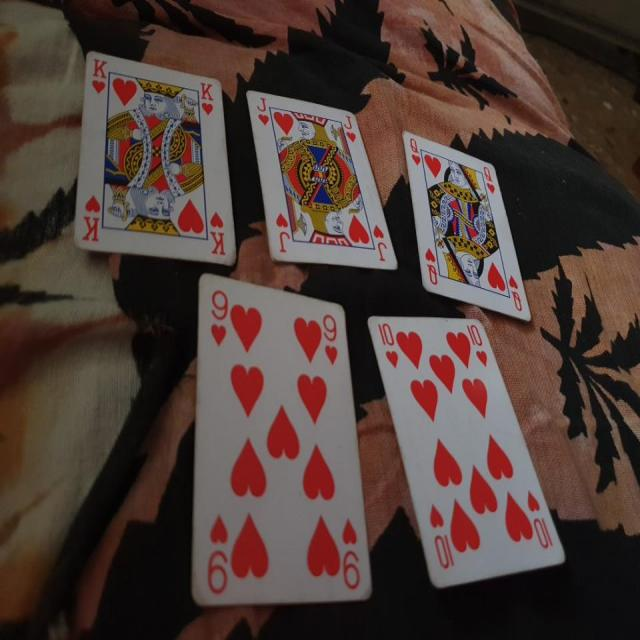10 Hearts: (361, 306, 566, 588)
9 Hearts: (186, 269, 375, 602)
J Hearts: (240, 82, 402, 288)
K Hearts: (73, 48, 243, 268)
Q Hearts: (393, 123, 534, 324)
